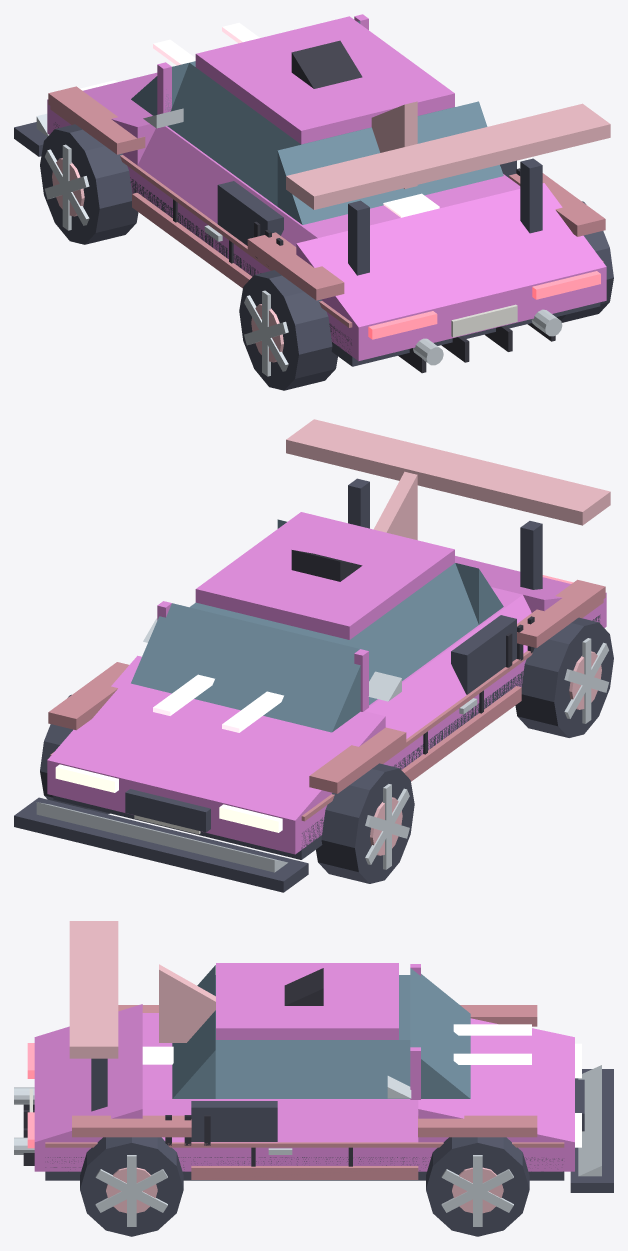
The model's file is slipstream_spear.glb.
3 views of the same model, one above another, from view 1: azimuth 30°, elevation 25°; view 2: azimuth 150°, elevation 25°; view 3: azimuth 270°, elevation 25° (orthographic). The views are drawn at different scales.
Visible parts, largest first — view 1: Tail.083, Roof.283, RearWing.046, Body.283, CabinSideL.080, RearWindow.183, Wheel_RL.243, Wheel_FL.243, ShoulderL.080, Arch-1False.159, Arch-1True.159, BodyUpper.080 (+27 smaller); view 2: Nose.080, Roof.283, Windshield.183, RearWing.046, Body.283, CabinSideL.080, Splitter.050, Wheel_FL.243, Wheel_RL.243, ShoulderL.080, Bumper.279, AirIntake-1.046 (+24 smaller); view 3: Roof.283, CabinSideR.080, Nose.080, Tail.083, Body.283, ShoulderR.080, RearWing.046, Wheel_RR.243, Wheel_FR.243, Windshield.183, AirIntake1.046, RearWindow.183 (+26 smaller).
Boxes of the visible parts, <box> form: Tail.083: <box>296,183,606,327</box>; Roof.283: <box>195,16,454,144</box>; RearWing.046: <box>286,103,610,209</box>; Body.283: <box>47,100,606,361</box>; CabinSideL.080: <box>167,63,300,206</box>; RearWindow.183: <box>277,101,503,224</box>; Wheel_RL.243: <box>239,270,337,390</box>; Wheel_FL.243: <box>40,124,138,244</box>; ShoulderL.080: <box>137,126,317,246</box>; Arch-1False.159: <box>48,86,145,154</box>; Arch-1True.159: <box>247,232,344,300</box>; BodyUpper.080: <box>165,126,520,237</box>; Nose.080: <box>47,655,385,820</box>; Roof.283: <box>195,512,454,639</box>; Windshield.183: <box>131,603,360,732</box>; RearWing.046: <box>286,419,610,525</box>; Body.283: <box>47,593,606,854</box>; CabinSideL.080: <box>343,563,478,705</box>; Splitter.050: <box>14,797,308,892</box>; Wheel_FL.243: <box>316,763,414,883</box>; Wheel_RL.243: <box>515,617,613,737</box>; ShoulderL.080: <box>365,595,531,738</box>; Bumper.279: <box>36,802,287,872</box>; AirIntake-1.046: <box>451,615,516,694</box>; Roof.283: <box>216,963,398,1039</box>; CabinSideR.080: <box>215,1040,410,1098</box>; Nose.080: <box>418,1018,574,1142</box>; Tail.083: <box>34,1004,142,1142</box>; Body.283: <box>34,1142,574,1171</box>; ShoulderR.080: <box>142,1100,418,1142</box>; RearWing.046: <box>69,921,118,1058</box>; Wheel_RR.243: <box>80,1137,183,1236</box>; Wheel_FR.243: <box>426,1137,529,1236</box>; Windshield.183: <box>410,968,470,1098</box>; AirIntake1.046: <box>191,1101,277,1141</box>; RearWindow.183: <box>172,965,215,1098</box>.
Size of the model in its own units: 3 by 2.08 by 5.55.
